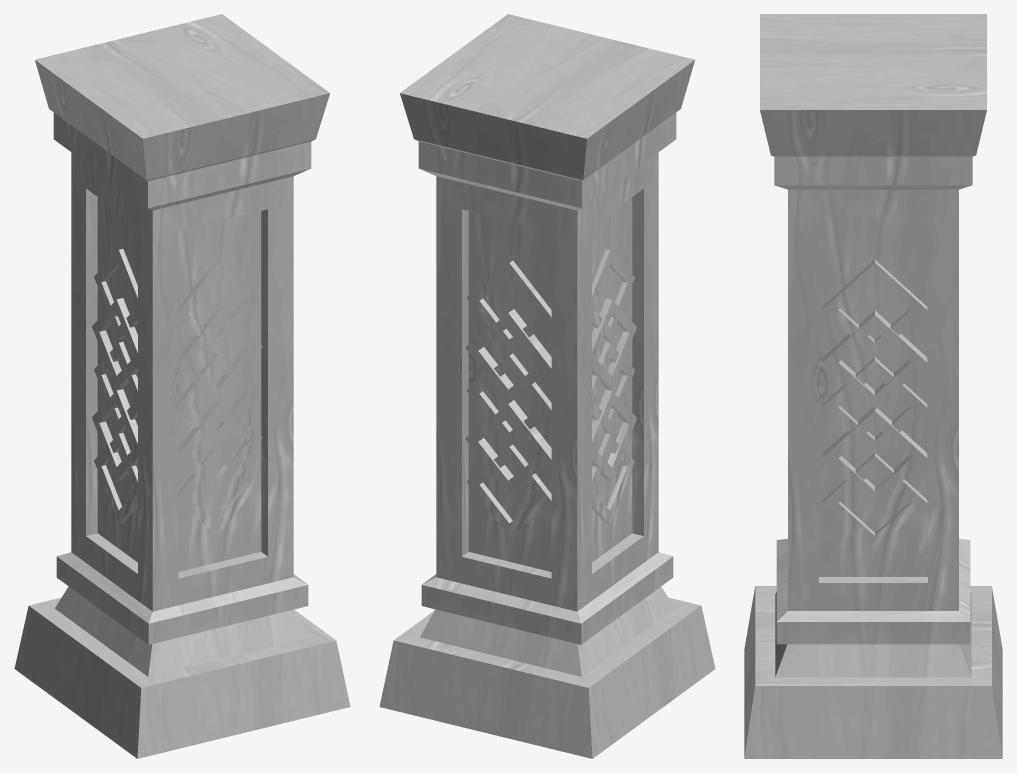
The model's file is BridgePillar_A_001.fbx.
The picture shows the model from 3 angles, left to right: view 1: azimuth 30°, elevation 25°; view 2: azimuth 150°, elevation 25°; view 3: azimuth 270°, elevation 25°; orthographic projection. The views are drawn at different scales.
Parts seen in each view (by area): view 1: BridgePillar_A_001; view 2: BridgePillar_A_001; view 3: BridgePillar_A_001.
Boxes of the visible parts, box(x1,y1,x2,y2) form: BridgePillar_A_001: box(14, 14, 350, 758); BridgePillar_A_001: box(379, 14, 715, 758); BridgePillar_A_001: box(744, 14, 1002, 758).
Bounding box in the file's own units: 67.12 × 184 × 67.12.
2 materials, 2 textured.
